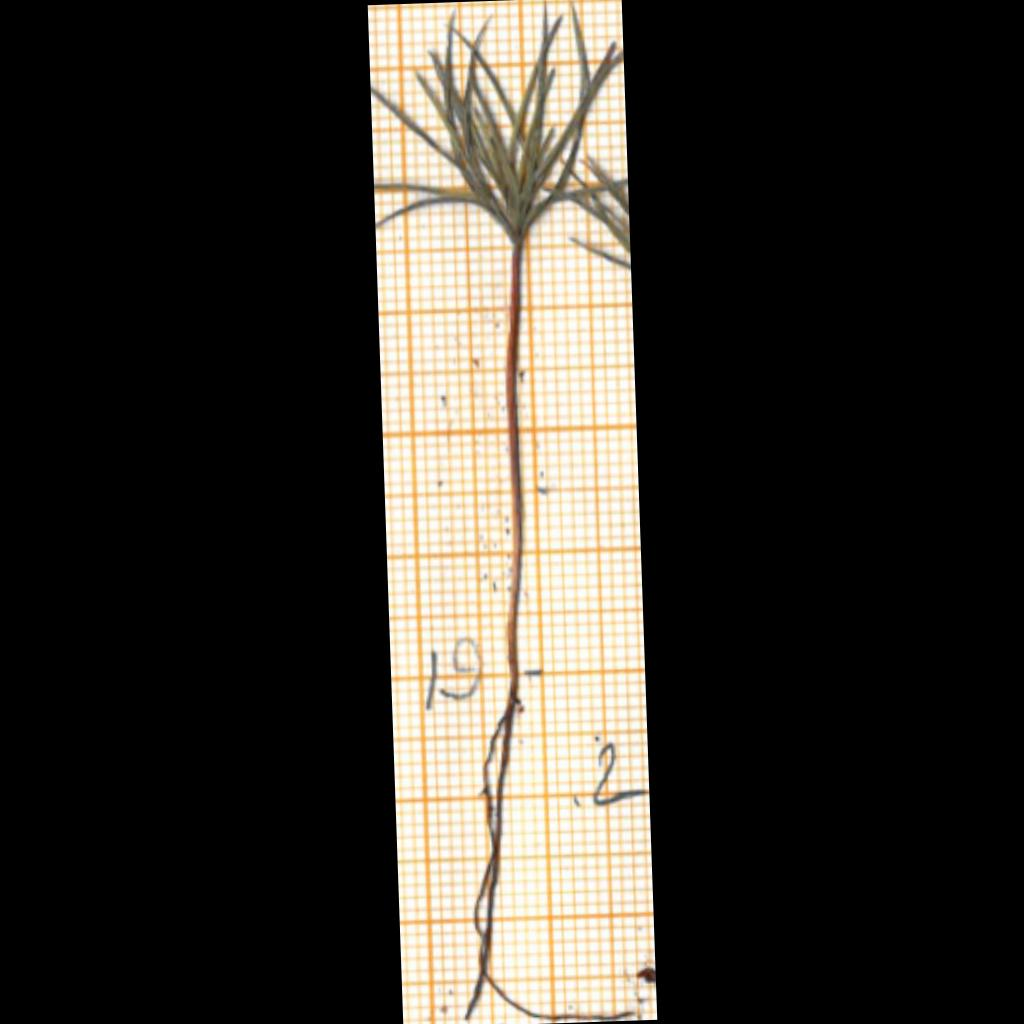flowerPinus: (371, 7, 623, 243)
rootPinus: (466, 685, 633, 1021)
stemPinus: (505, 246, 523, 680)
